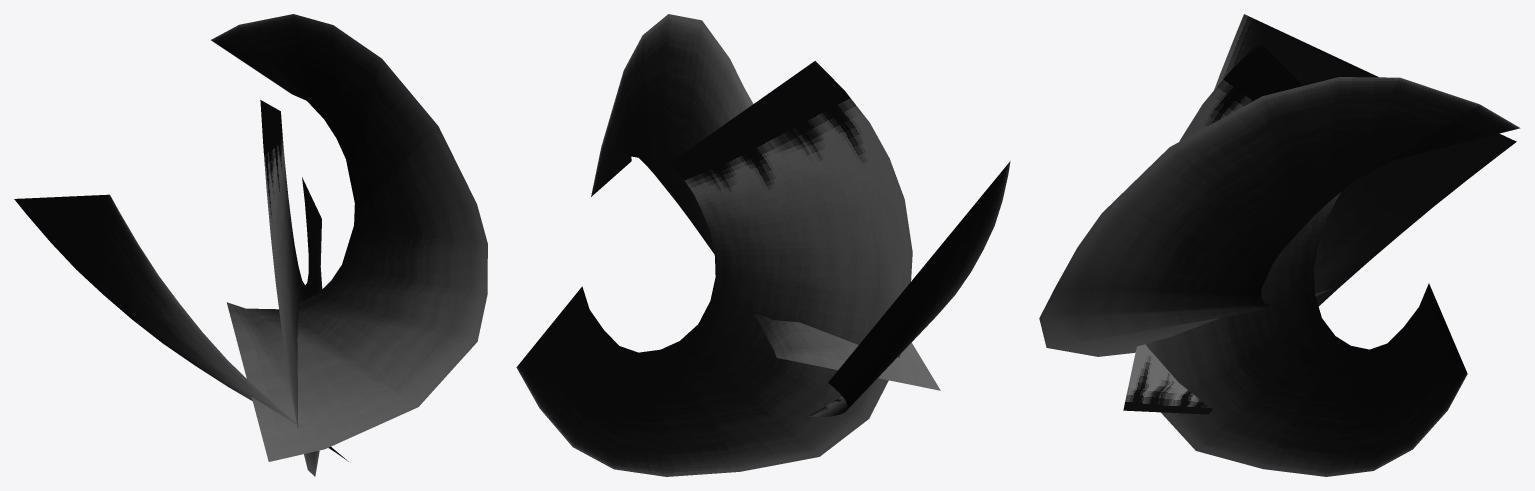
File: eff_enem_MA_Duon_Renzoku_Te_Wind1_M.obj
3 renders of one model, left to right at view 1: azimuth 30°, elevation 25°; view 2: azimuth 150°, elevation 25°; view 3: azimuth 270°, elevation 25°, orthographic. The views are drawn at different scales.
Visible parts, largest first — view 1: polygon0, polygon1, polygon2; view 2: polygon2, polygon0, polygon1; view 3: polygon0, polygon2, polygon1.
Boxes of the visible parts, left/top/right/bottom form: polygon0: left=211, top=14, right=487, bottom=461; polygon1: left=14, top=194, right=348, bottom=461; polygon2: left=260, top=100, right=322, bottom=476; polygon2: left=516, top=61, right=912, bottom=476; polygon0: left=591, top=14, right=940, bottom=390; polygon1: left=807, top=161, right=1010, bottom=416; polygon0: left=1039, top=77, right=1520, bottom=356; polygon2: left=1146, top=42, right=1467, bottom=476; polygon1: left=1123, top=14, right=1516, bottom=414.
Size of the model in its own units: 103 by 120 by 125.
Materials: 3 (3 with a texture image).
